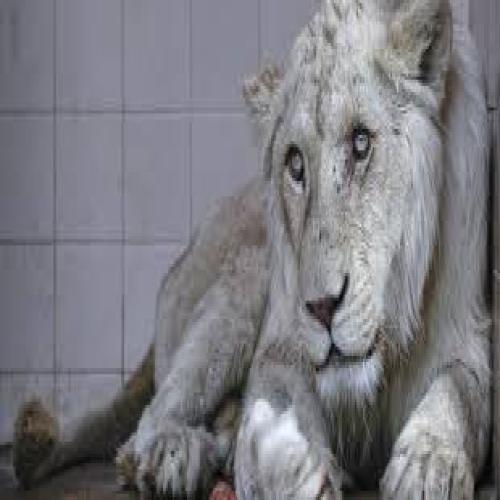lion-endangered: (20, 0, 493, 500)
